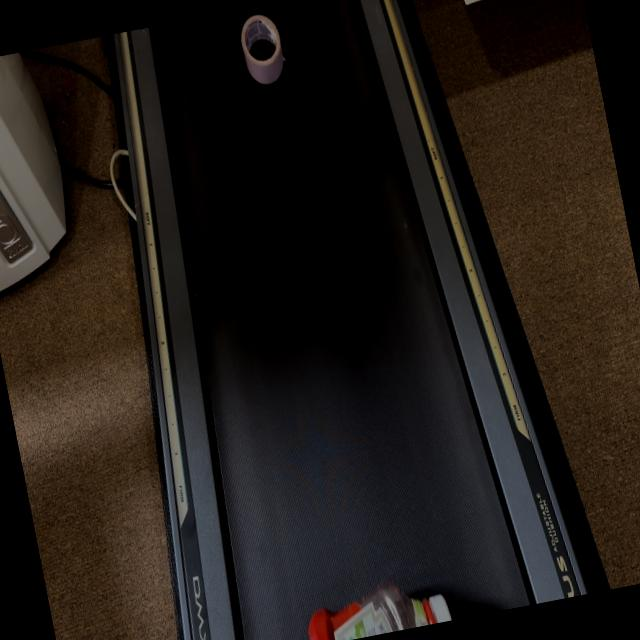Trash: (298, 569, 453, 640), (234, 10, 293, 91)
